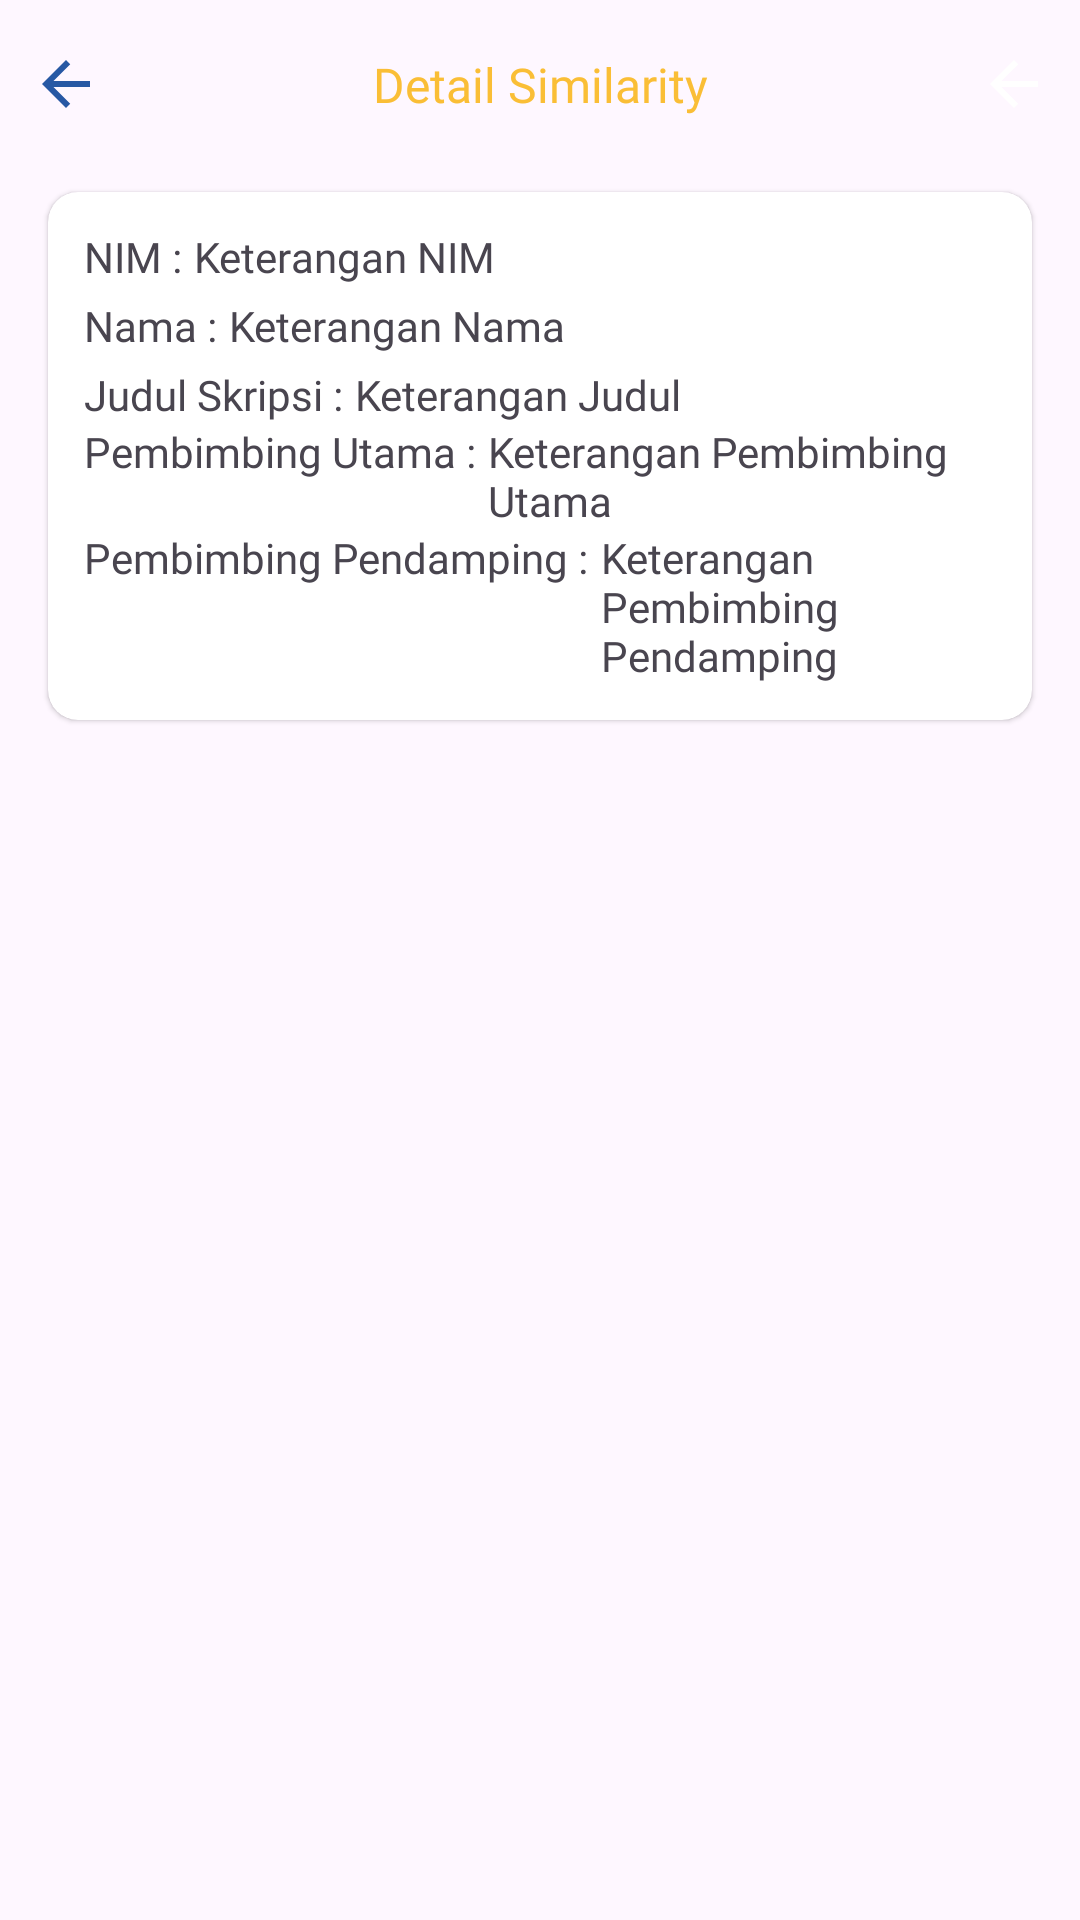

Icons on this 1080 x 1920 Android screen, each with the point to tap as (x,y):
arrow back: (66,84)
